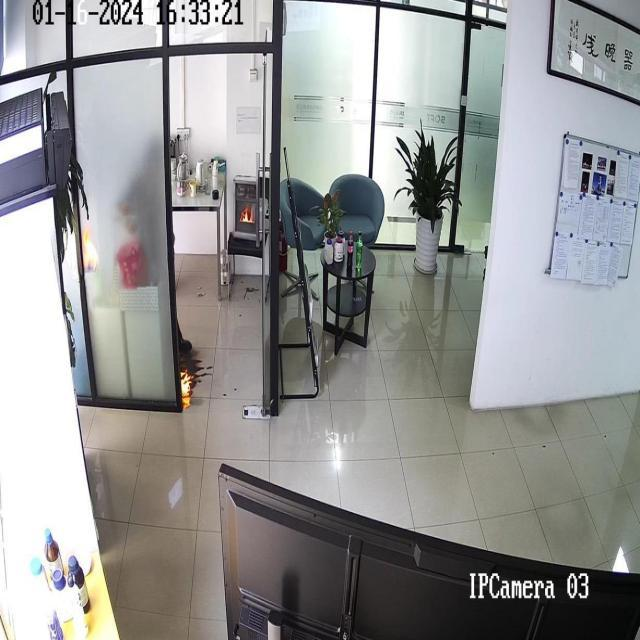smoke: (82, 226, 96, 272), (180, 367, 191, 407), (240, 207, 253, 224)
